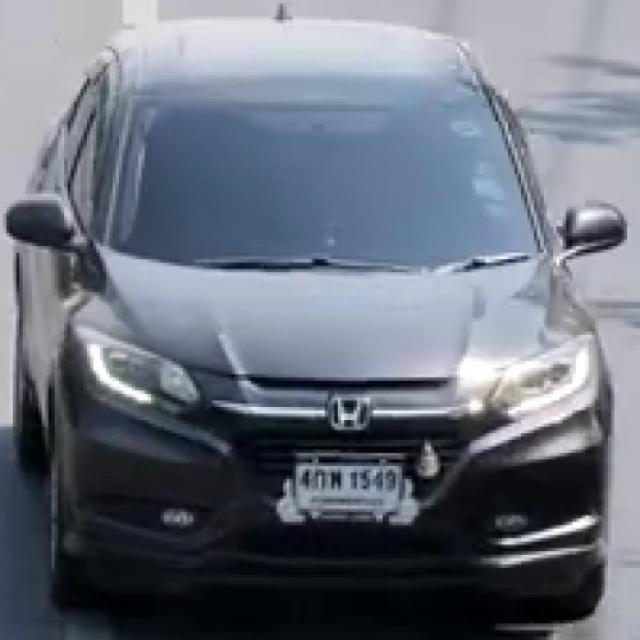plate: (302, 461, 398, 510)
